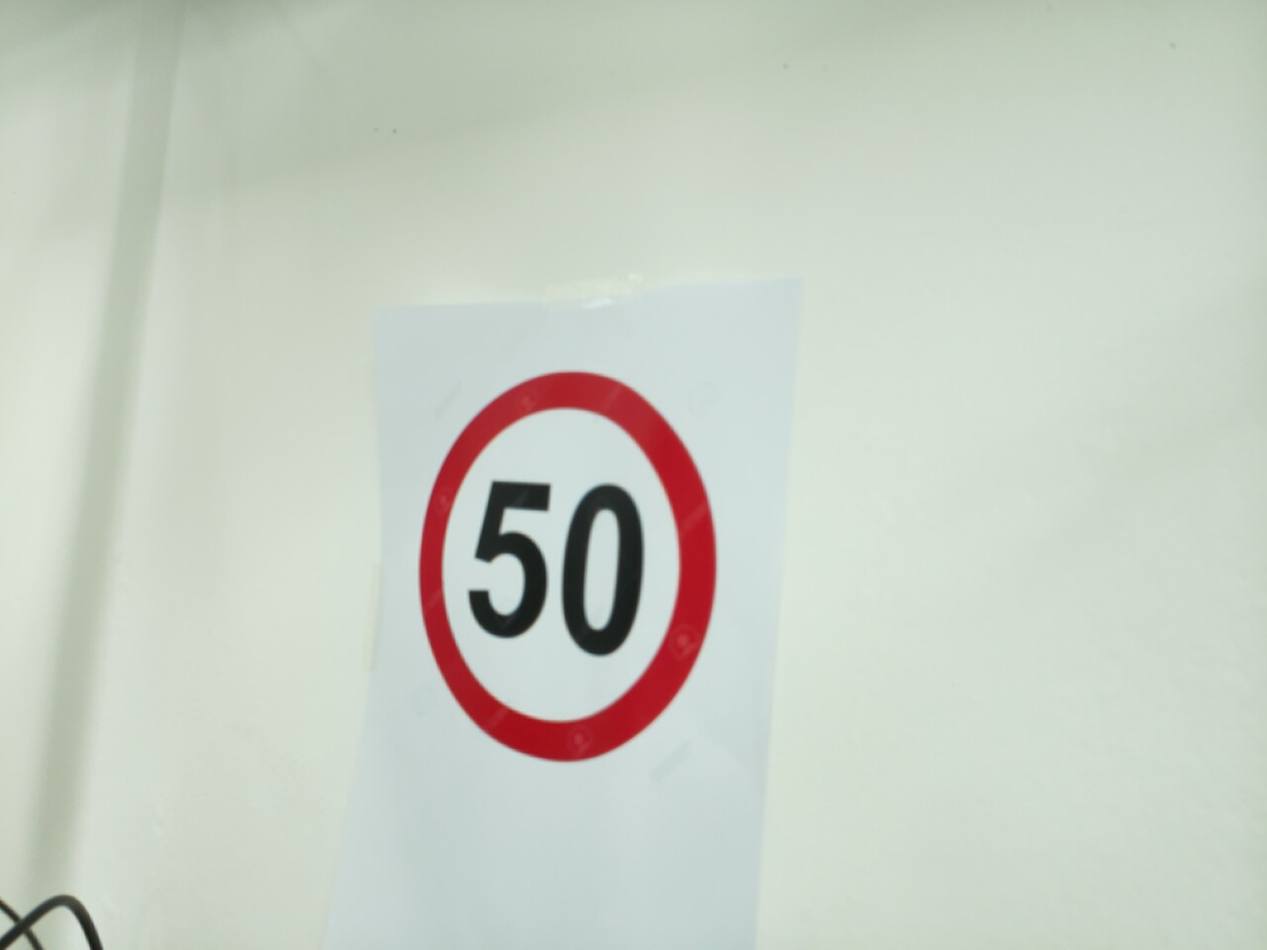speed_50: (409, 360, 727, 774)
